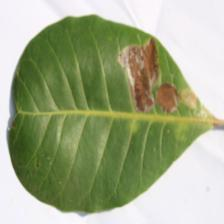leaf miner: (6, 13, 224, 214), (116, 34, 160, 113)
